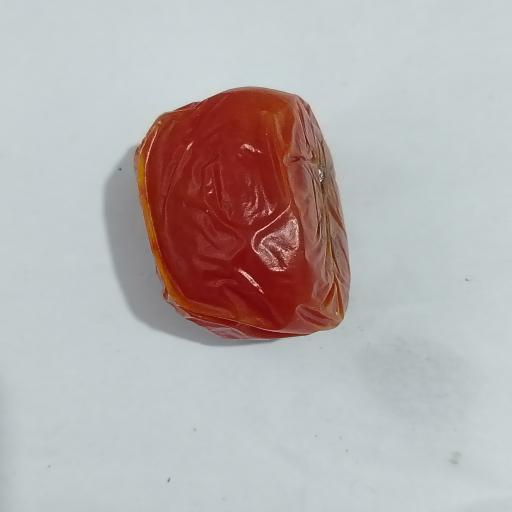spoiled: (137, 88, 350, 339)
